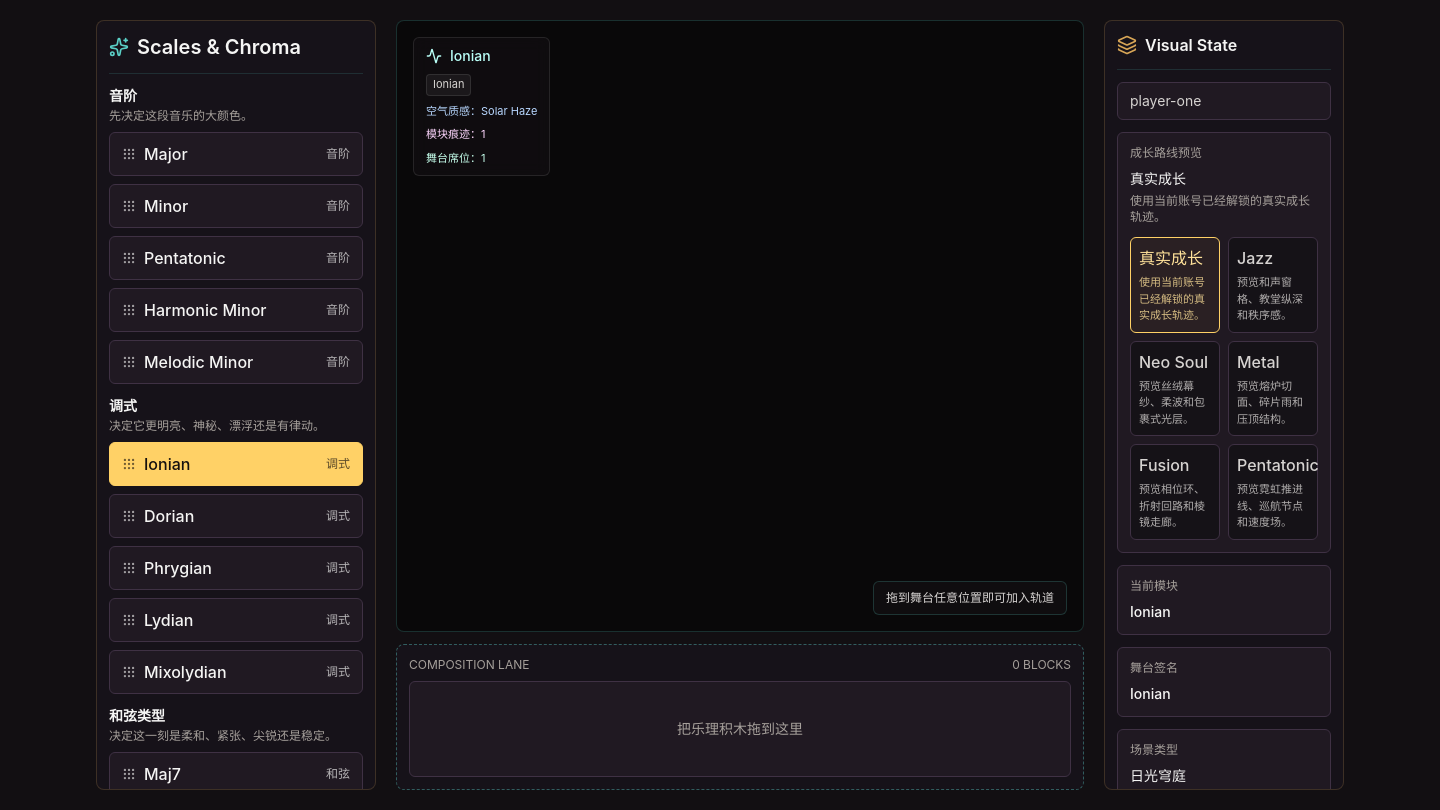
TheorySandbox › lets users preview a different growth lens without changing saved progression
This screenshot has width=1440, height=810.
Expected: the text "成长路线预览" is shown, top-left (1130, 145), bottom-right (1202, 160)
Click the button "Neo Soul 预览丝绒幕纱、柔波和包裹式光层。": [1175, 388] box top-left (1130, 340), bottom-right (1220, 436)
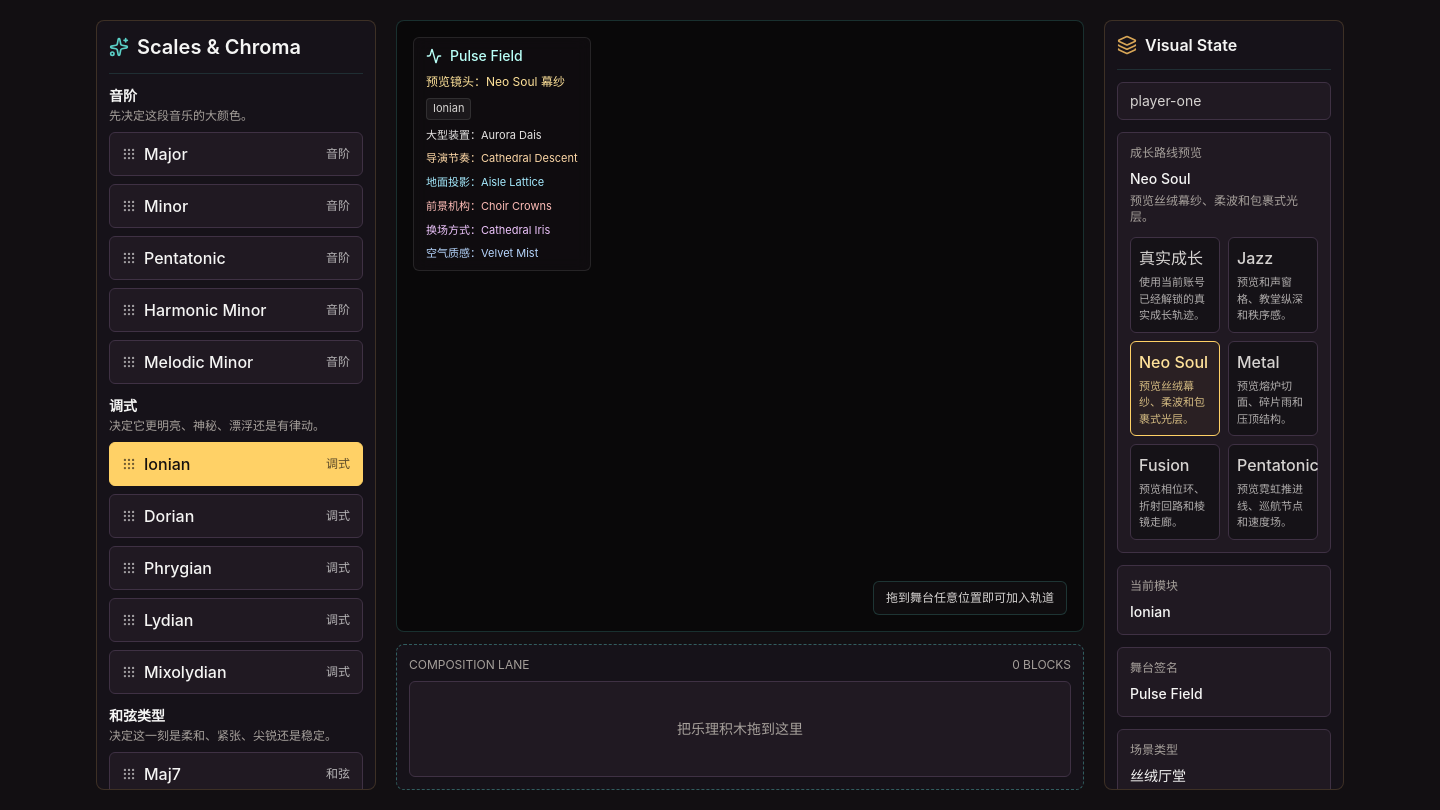
Now the text "预览镜头：Neo Soul 幕纱" is shown, box top-left (426, 74), bottom-right (578, 90)
